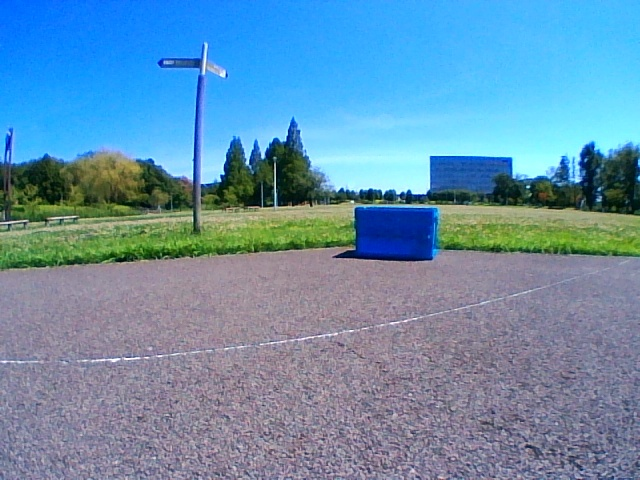blue_box: (354, 207, 439, 260)
